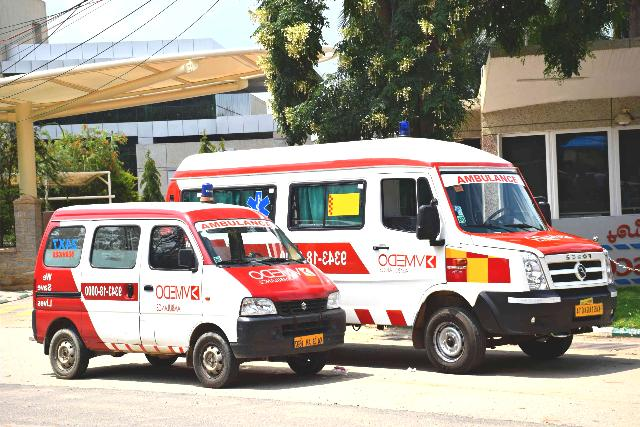ambulance: (167, 137, 616, 372), (31, 202, 346, 387)
